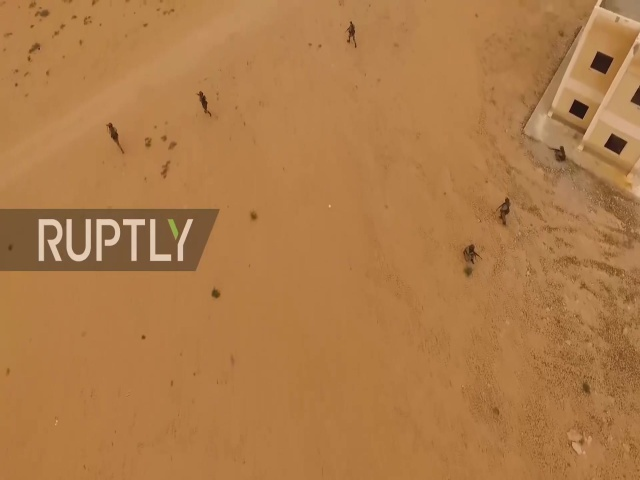person: (107, 120, 128, 157), (195, 90, 213, 120), (344, 21, 361, 51), (497, 197, 512, 230)
